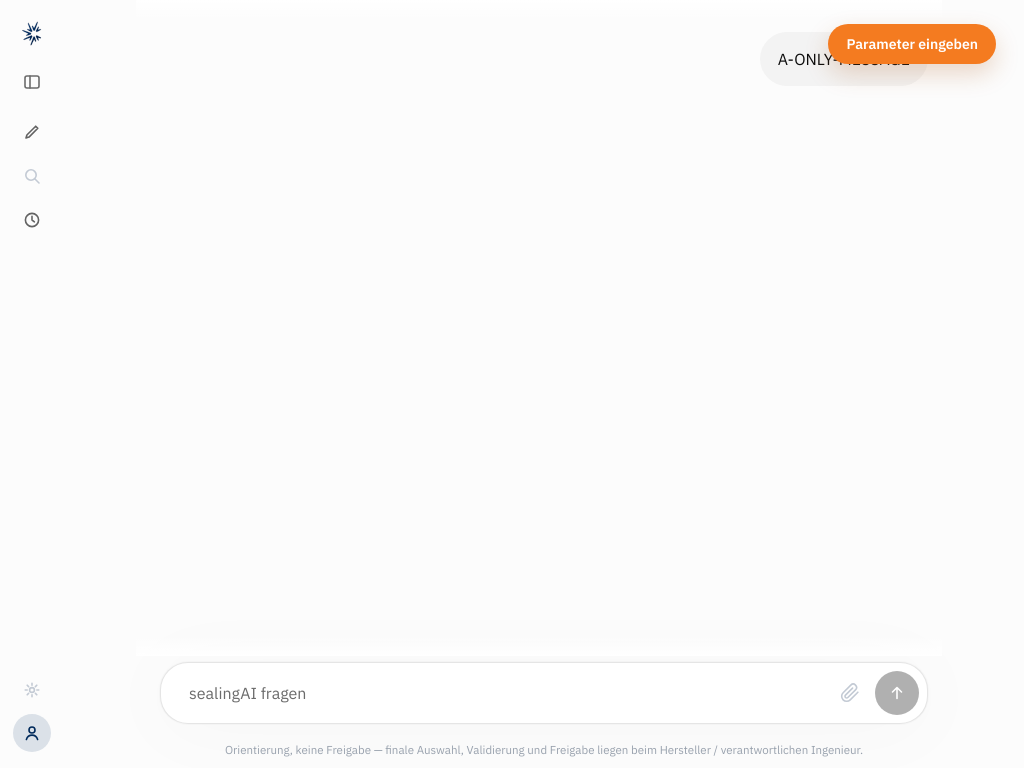
Test: "Fälle"-Sidebar: switching cases never shows a stale case's messages (2026-07-04 audit fix) › selectCase (an actual sidebar click) shows ONLY the newly selected case's messages, never a stale flash that sticks
Expected: the text "A-ONLY-MESSAGE" is shown, x1=760 y1=32 x2=928 y2=86
Step 1. Click the button with test id "rail-history" → (32, 220), box x1=12 y1=200 x2=52 y2=240
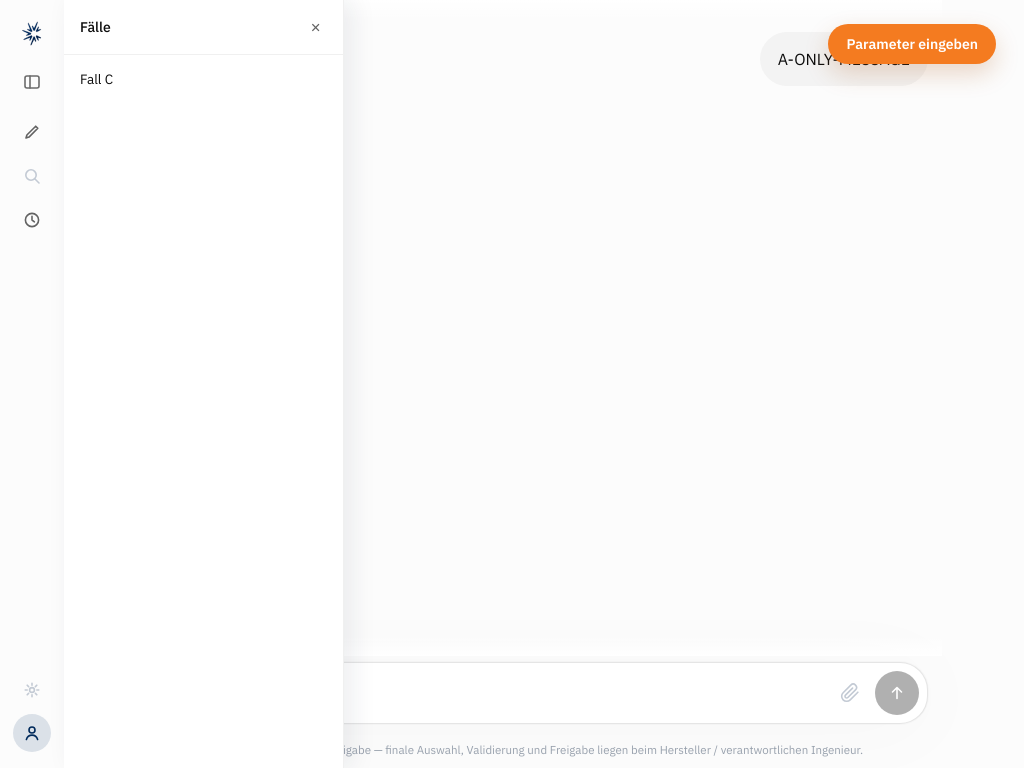
Now the button with test id "case-sidebar-item" is shown
Step 2. Click the button with test id "case-sidebar-item" → (97, 79), box x1=70 y1=61 x2=337 y2=97
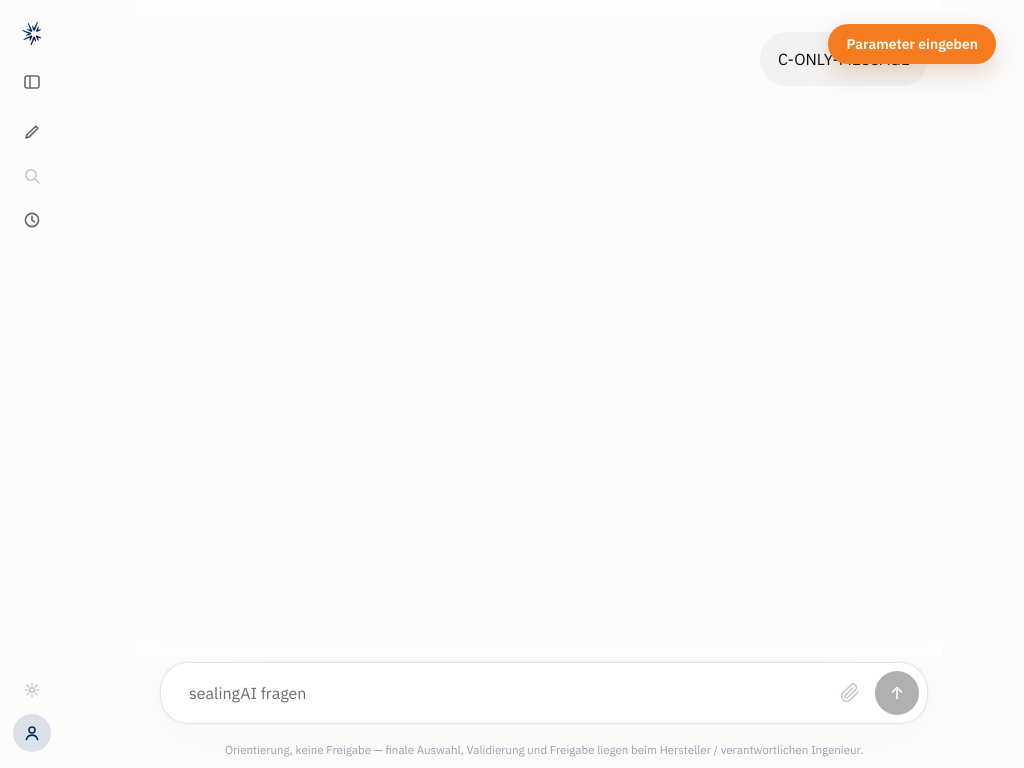
Now the text "C-ONLY-MESSAGE" is shown, box x1=760 y1=32 x2=928 y2=86
Now the text "A-ONLY-MESSAGE" is gone
